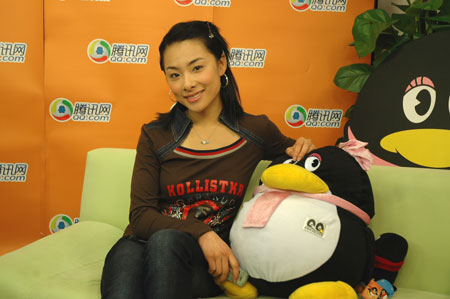other: (93, 16, 317, 299)
